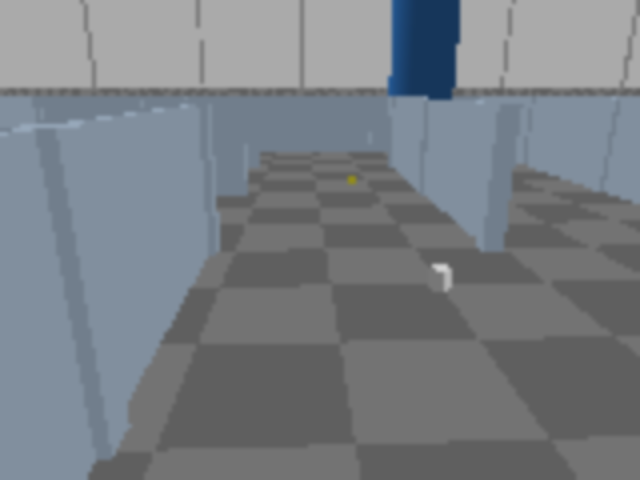puck: (427, 263, 454, 294)
